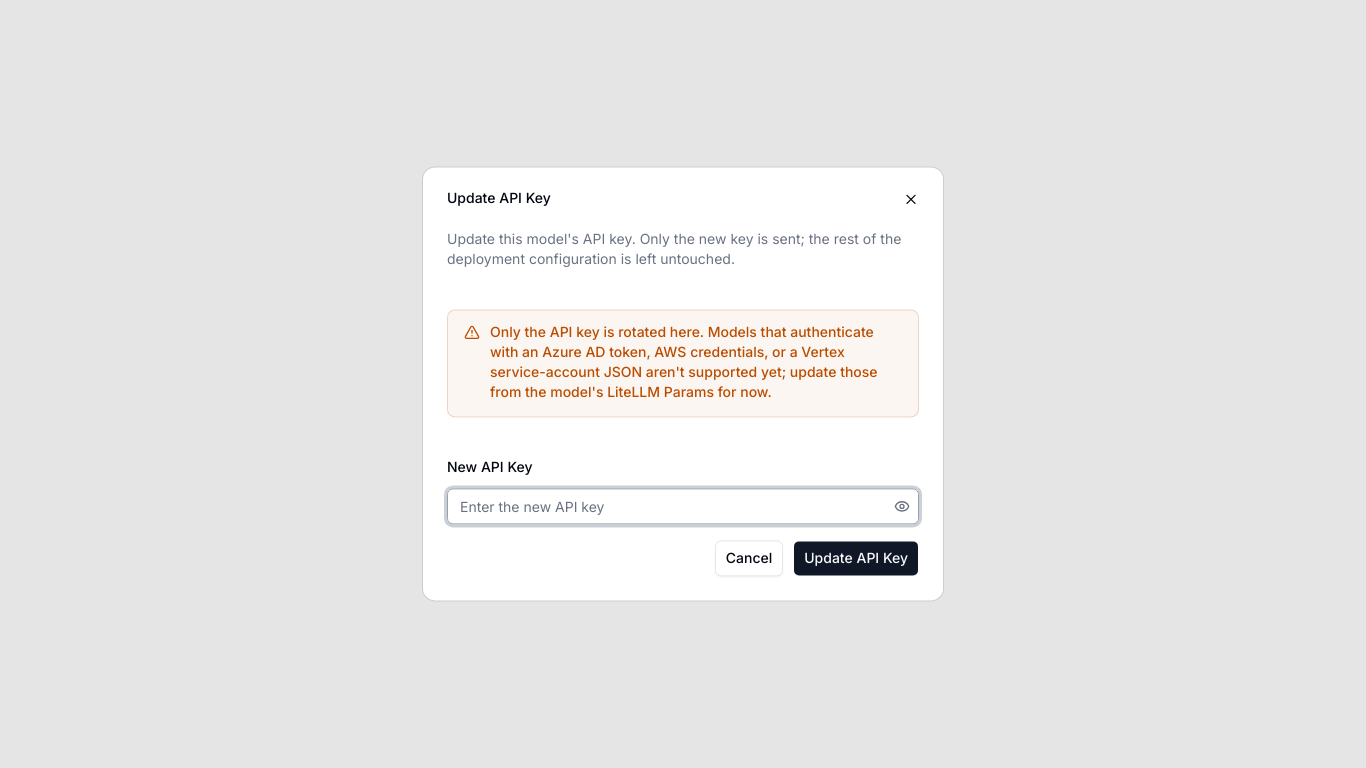
it: UpdateModelCredentialsModal › renders the required message when the field is left blank
Step 1. Click the button "Update API Key" → [856, 559], box [793, 541, 919, 577]
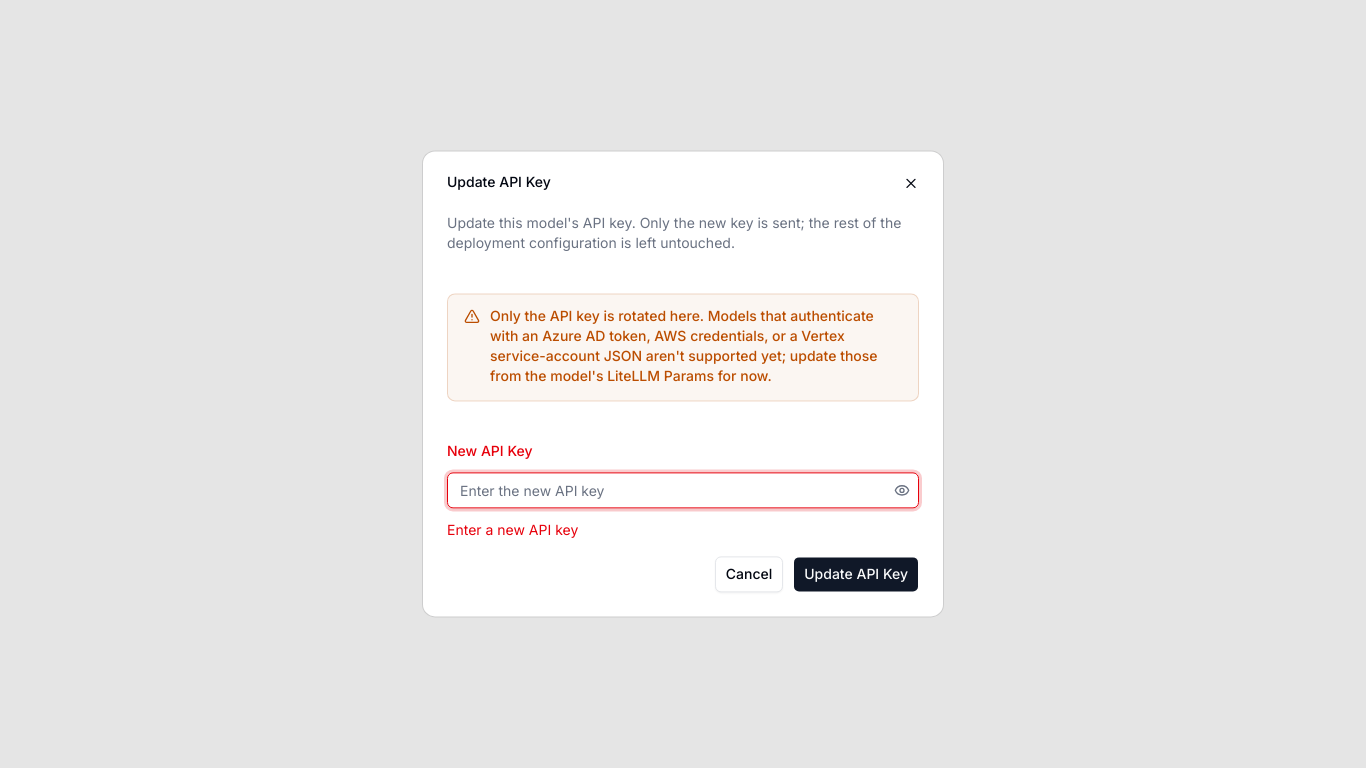
Now the text "Enter a new API key" is shown, box [447, 522, 578, 539]
